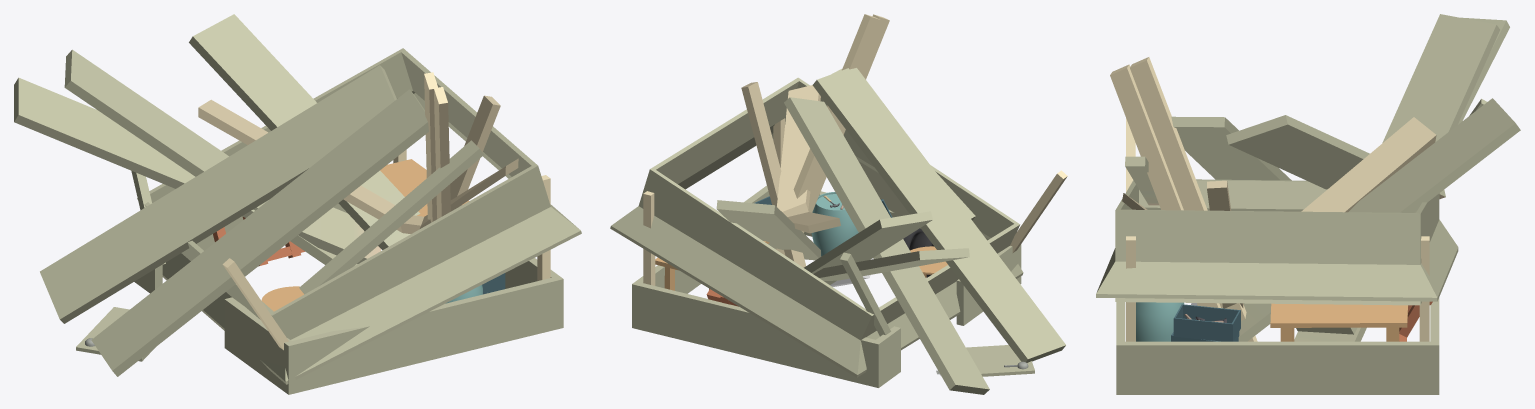
The model's file is kioskDestroyed.fbx.
3 renders of one model, left to right at view 1: azimuth 30°, elevation 25°; view 2: azimuth 150°, elevation 25°; view 3: azimuth 270°, elevation 25°, orthographic. The views are drawn at different scales.
Parts seen in each view (by area): view 1: Cube.010, Cube.075, Cube.028; view 2: Cube.010, Cube.075, Cube.028, Cube.016; view 3: Cube.010, Cube.028, Cube.075.
Part boxes in pixels (bbox=[...]): Cube.010: bbox=[14, 14, 581, 394]; Cube.075: bbox=[198, 95, 518, 233]; Cube.028: bbox=[76, 159, 505, 361]; Cube.010: bbox=[610, 14, 1067, 394]; Cube.075: bbox=[741, 82, 840, 267]; Cube.028: bbox=[655, 192, 1034, 376]; Cube.016: bbox=[903, 228, 933, 277]; Cube.010: bbox=[1096, 14, 1520, 394]; Cube.028: bbox=[1136, 301, 1432, 341]; Cube.075: bbox=[1122, 117, 1436, 308].
Bounding box in the file's own units: 674 × 452 × 588.
